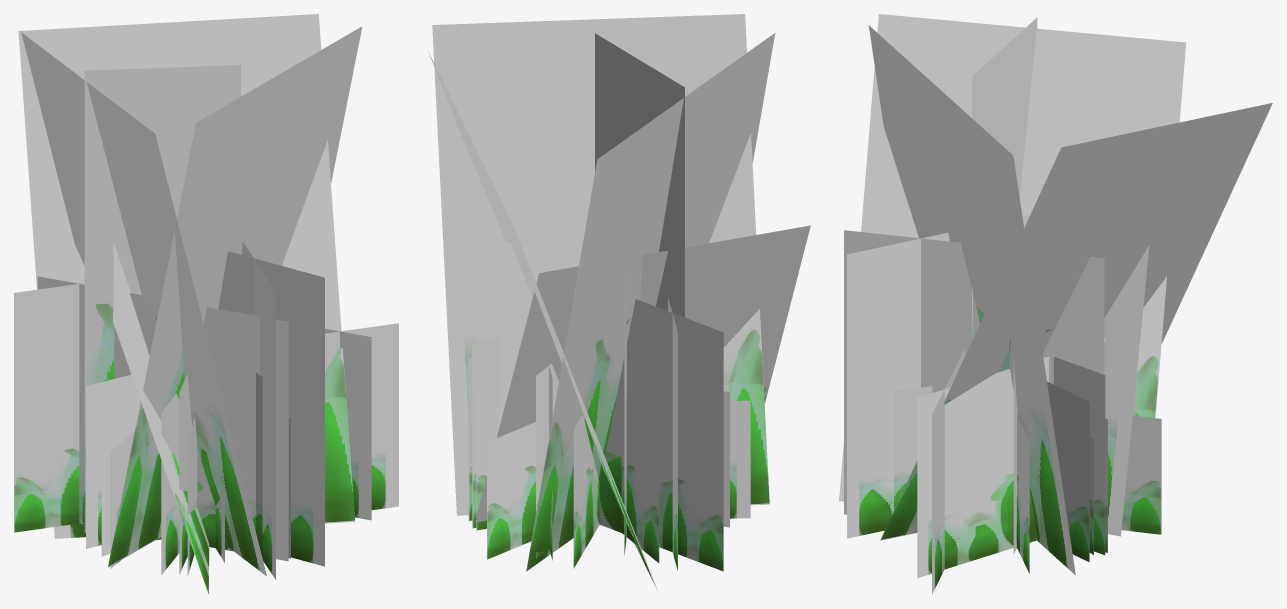
File: Grass.fbx
3 renders of one model, left to right at view 1: azimuth 30°, elevation 25°; view 2: azimuth 150°, elevation 25°; view 3: azimuth 270°, elevation 25°, orthographic.
Parts seen in each view (by area): view 1: Grass, Grass2; view 2: Grass, Grass2; view 3: Grass, Grass2.
Part boxes in pixels (left/top/right/bottom): Grass: left=18, top=14, right=362, bottom=594; Grass2: left=14, top=242, right=398, bottom=579; Grass: left=428, top=14, right=810, bottom=594; Grass2: left=468, top=208, right=750, bottom=571; Grass: left=839, top=14, right=1272, bottom=574; Grass2: left=844, top=215, right=1161, bottom=594.
Bounding box in the file's own units: 68.32 × 100 × 81.51.
Materials: 1 (1 with a texture image).
